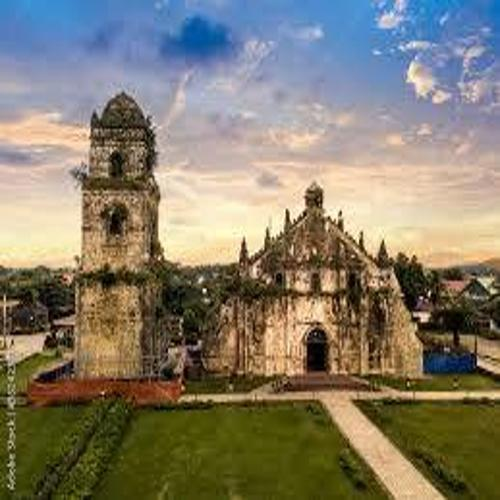Paoay Church: (74, 79, 429, 385)
